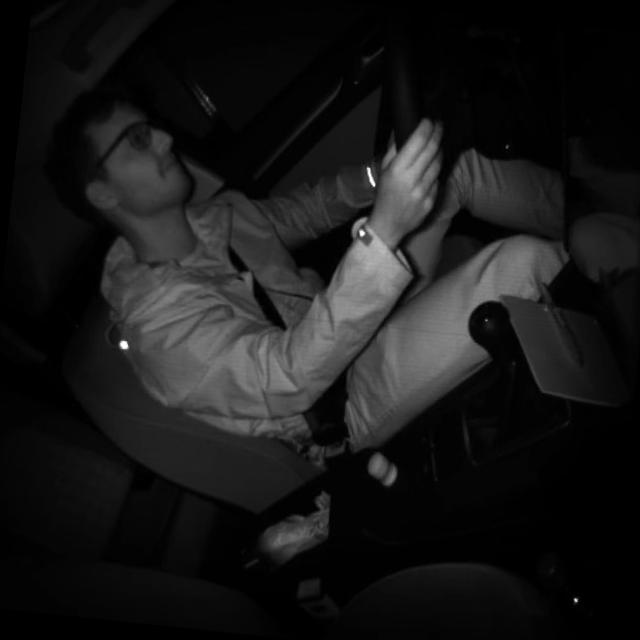pen: (526, 272, 590, 364)
